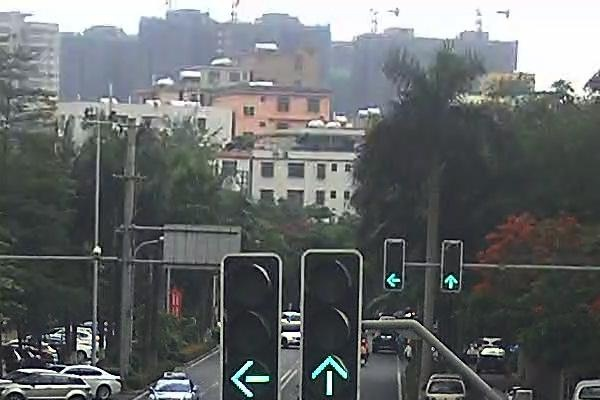greenleft: (228, 358, 272, 399), (386, 272, 402, 288)
greenstraight: (308, 354, 352, 400), (443, 272, 459, 290)
